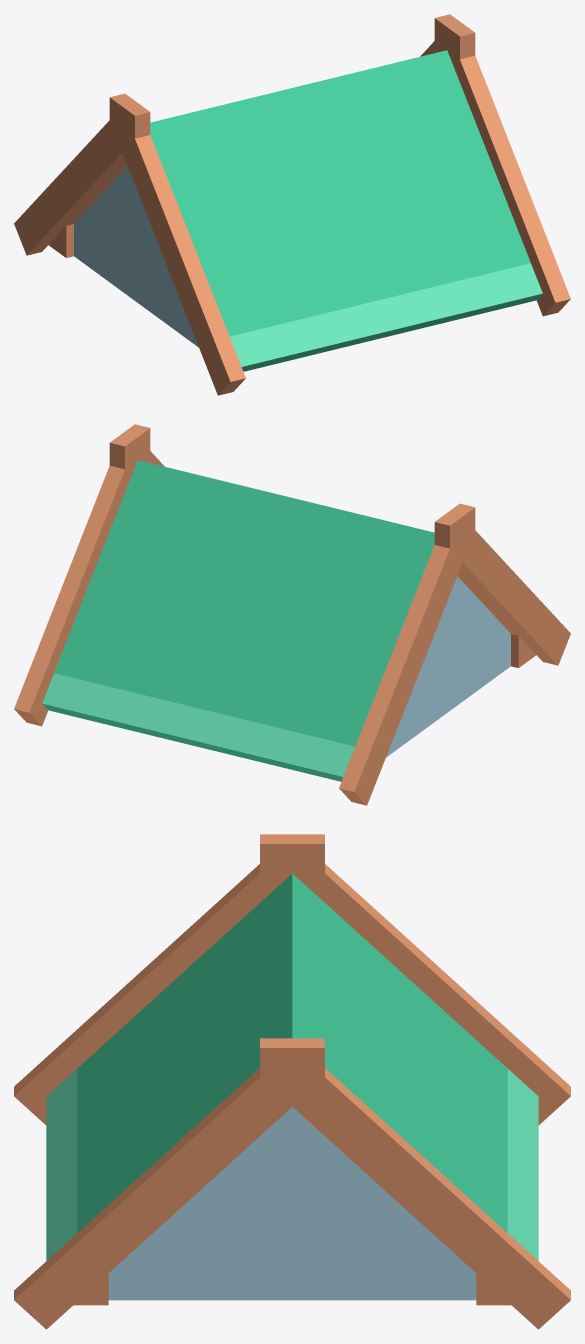
File: roofGableDetail.obj
3 views of the same model, one above another, from view 1: azimuth 30°, elevation 25°; view 2: azimuth 150°, elevation 25°; view 3: azimuth 270°, elevation 25° (orthographic). The views are drawn at different scales.
Visible parts, largest first — view 1: roofGableDetail; view 2: roofGableDetail; view 3: roofGableDetail.
Part boxes in pixels (x1,y1,x2,y2): roofGableDetail: (14, 14, 570, 395); roofGableDetail: (14, 424, 570, 805); roofGableDetail: (14, 834, 570, 1329).
Bounding box in the file's own units: 1.1 × 0.6768 × 1.21.
